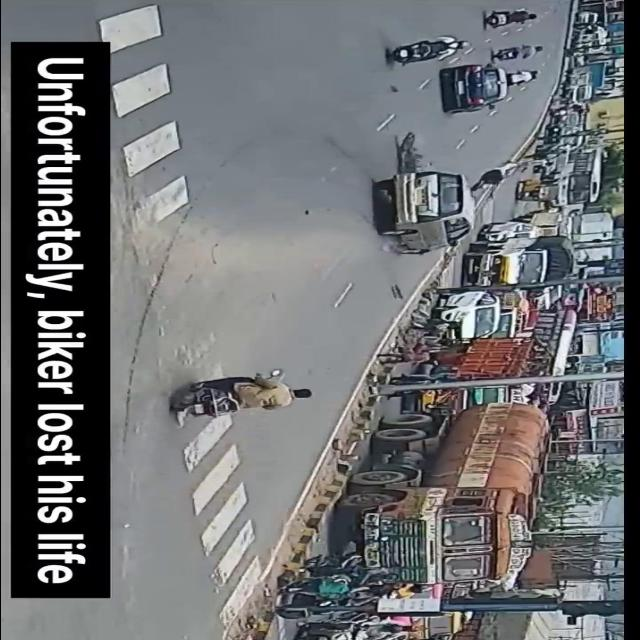accident: (373, 120, 523, 274)
non_accident: (276, 398, 555, 640), (522, 0, 631, 206), (389, 289, 579, 397), (459, 206, 586, 286)
